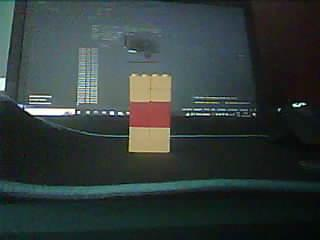lego: (128, 74, 172, 154)
